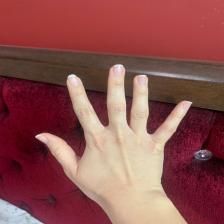five: (36, 62, 195, 208)
